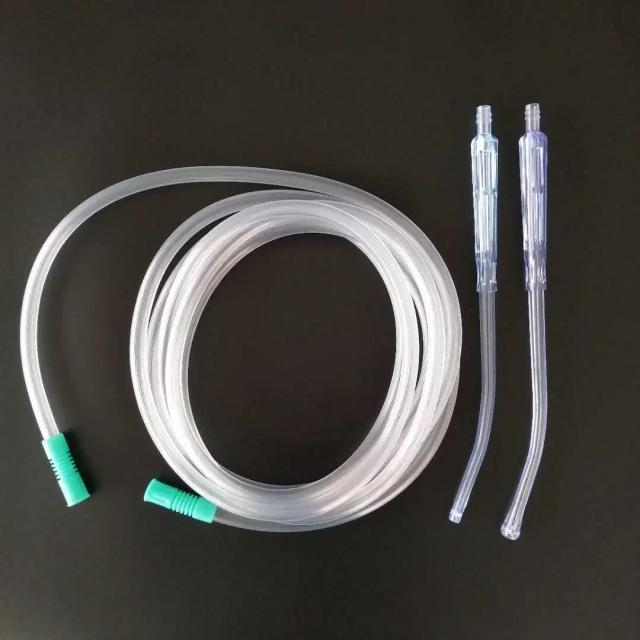Suction Tube Nozzle: (19, 99, 507, 542)
